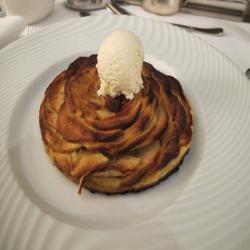apple_pie: (39, 54, 198, 205)
icecream: (91, 27, 149, 105)
